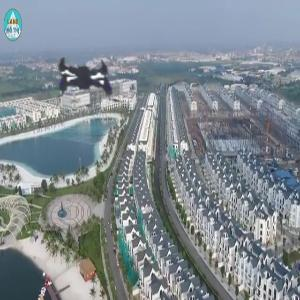drone: (13, 12, 158, 157)
